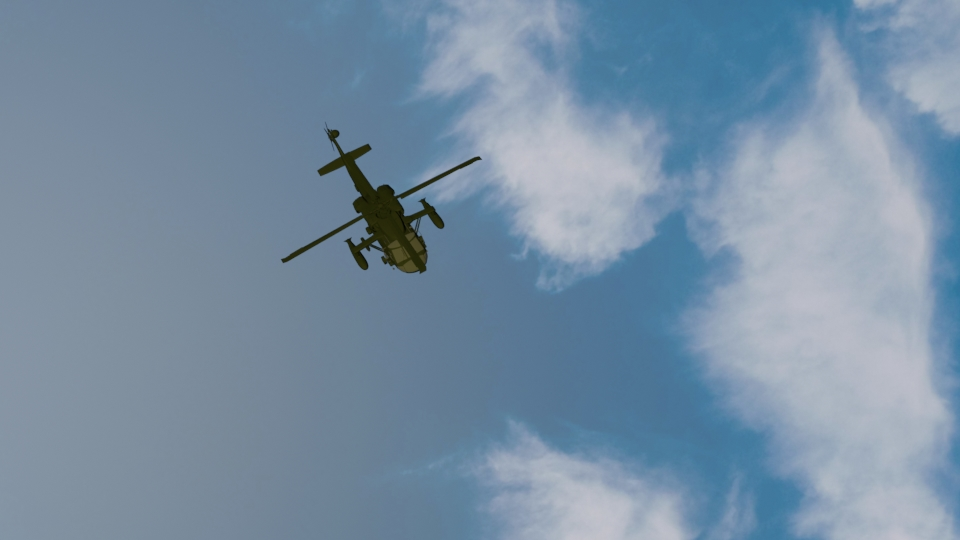heli: (280, 126, 483, 272)
